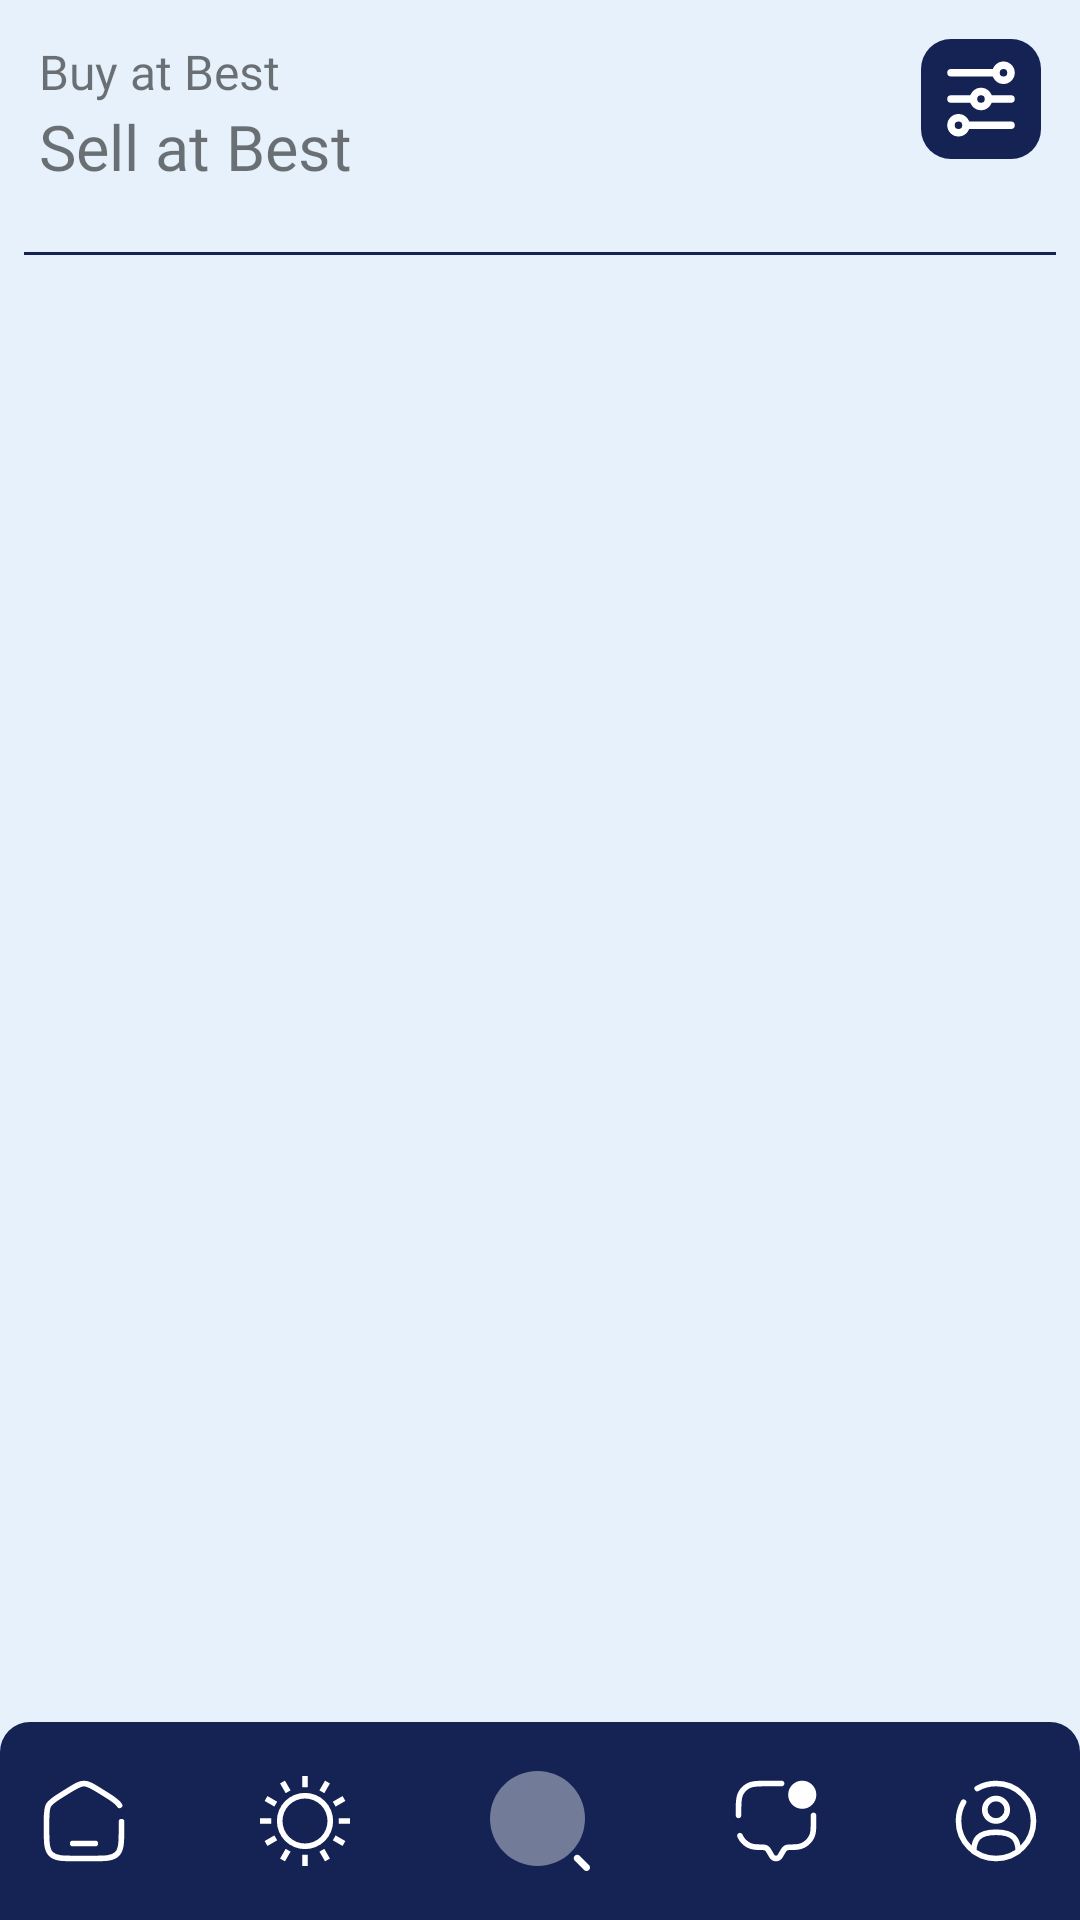

Screen size 1080 × 1920. Icon name, then its box in pixels as (x1, y1, x2, y2):
chat: (735, 1780, 817, 1862)
filter: (921, 39, 1041, 159)
home: (43, 1780, 125, 1862)
search ai: (490, 1771, 590, 1871)
user: (955, 1780, 1037, 1862)
weather: (260, 1776, 350, 1866)
